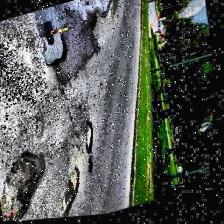pothole: (0, 144, 62, 224), (30, 3, 76, 71), (56, 165, 92, 219), (82, 122, 102, 156), (88, 158, 98, 176)
